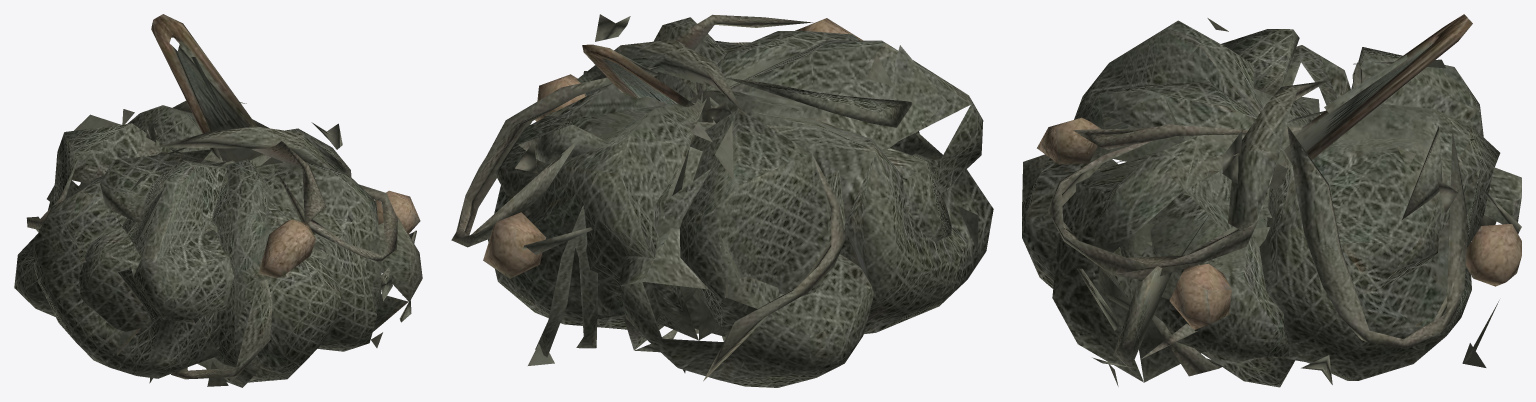
The model's file is mending_net_hand.glb.
3 views of the same model, side by side, from view 1: azimuth 30°, elevation 25°; view 2: azimuth 150°, elevation 25°; view 3: azimuth 270°, elevation 25° (orthographic). The views are drawn at different scales.
Bounding box in the file's own units: 0.4386 × 0.3533 × 0.45.
Materials: 1 (1 with a texture image).
